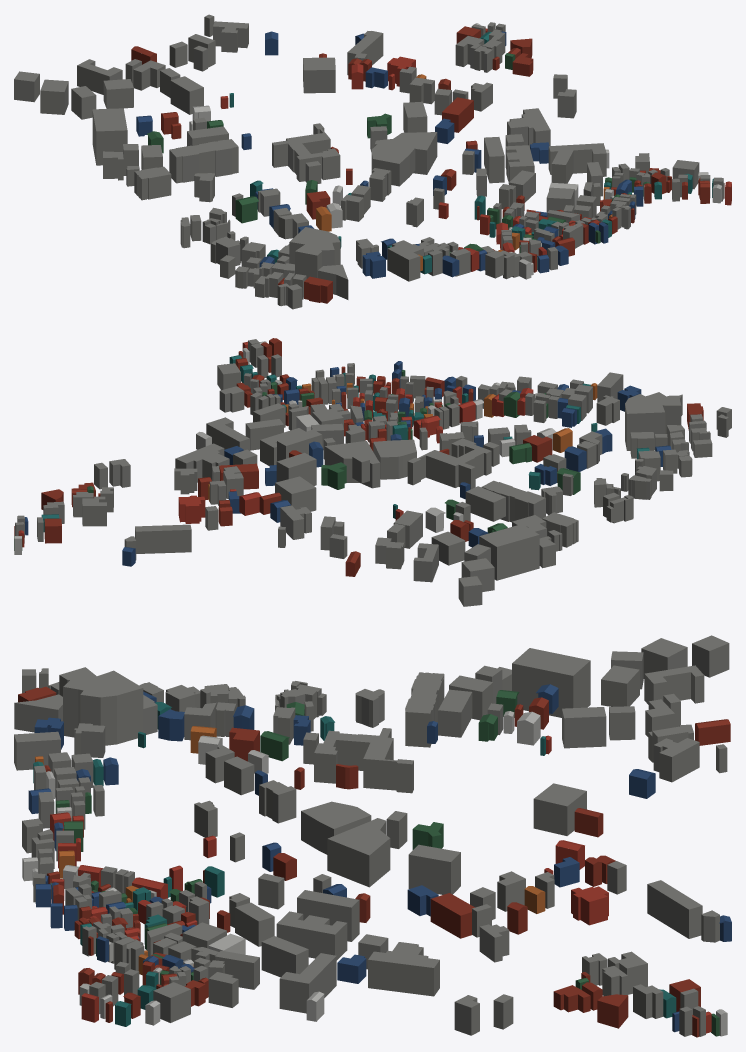
Rendered from near-16-54723-29738.82636437.glb.
3 renders of one model, top to bottom at view 1: azimuth 30°, elevation 25°; view 2: azimuth 150°, elevation 25°; view 3: azimuth 270°, elevation 25°, orthographic. The views are drawn at different scales.
Bounding box in the file's own units: 605 × 114 × 601.
